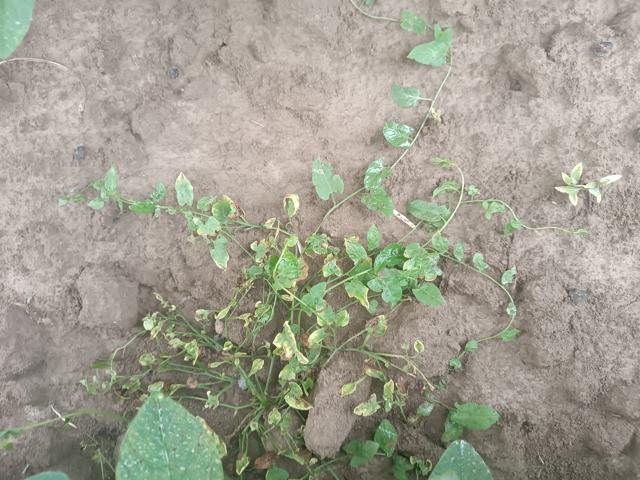bad weed: (106, 43, 542, 470)
